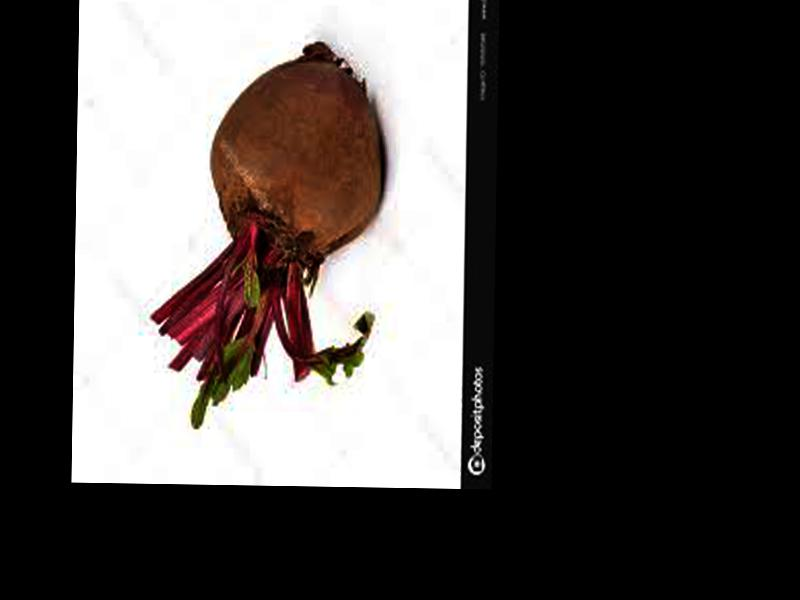Beet: (149, 39, 387, 431)
